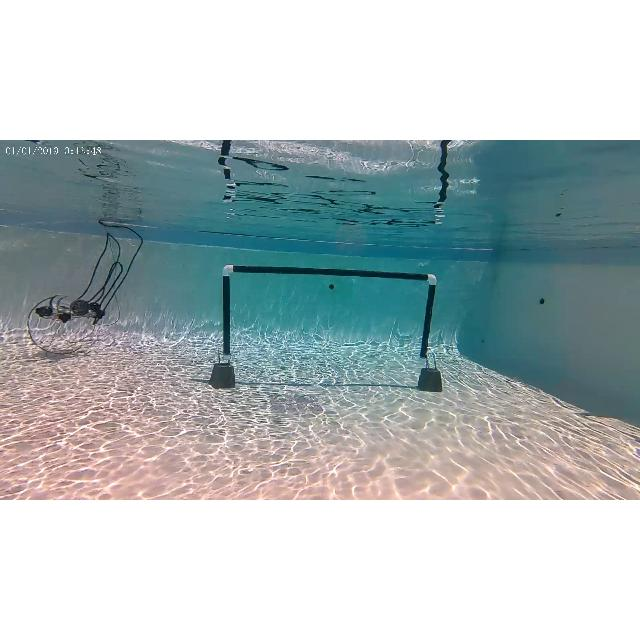prequal gate: (222, 265, 438, 361)
prequal gate leg l: (222, 264, 238, 362)
prequal gate leg r: (421, 270, 439, 362)
